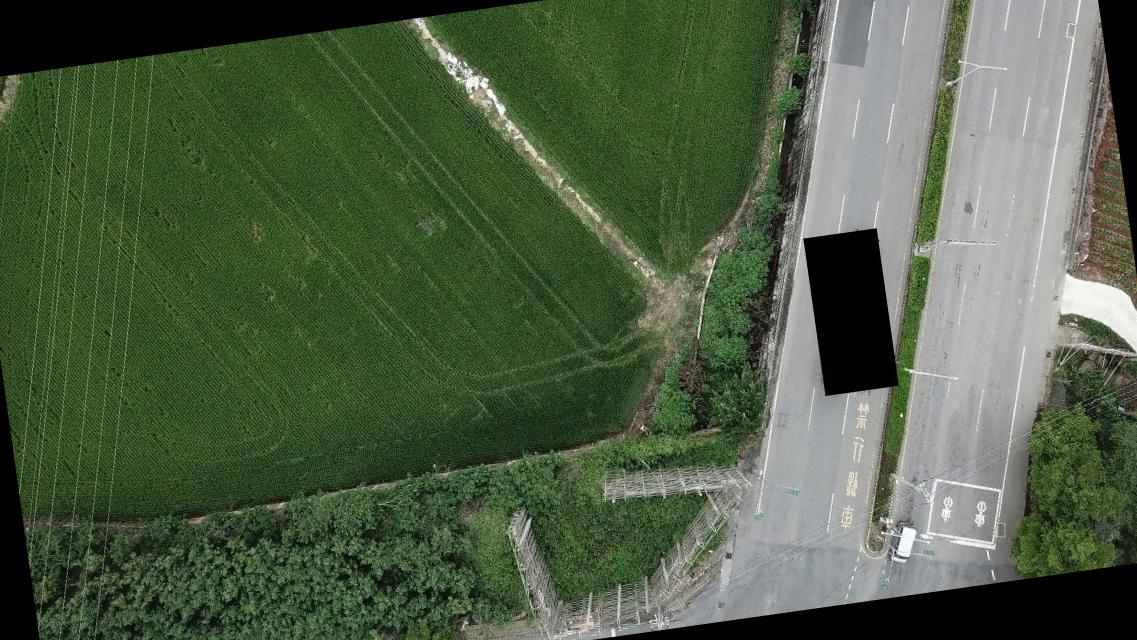vehicle: (884, 520, 921, 566)
